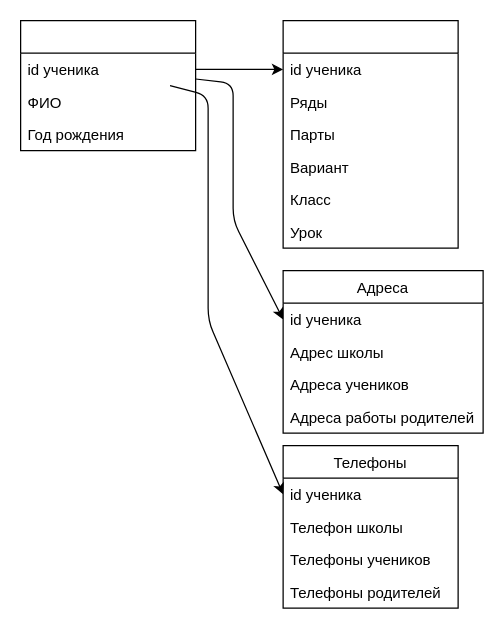
Some shapes in this 504 by 629 pixel diagram are drawn without their labels. Here are the shapes that lost their labels. From the top down, the box of each, then its label:
(19, 19, 196, 151): Ученики
(282, 19, 458, 248): Кабинет
